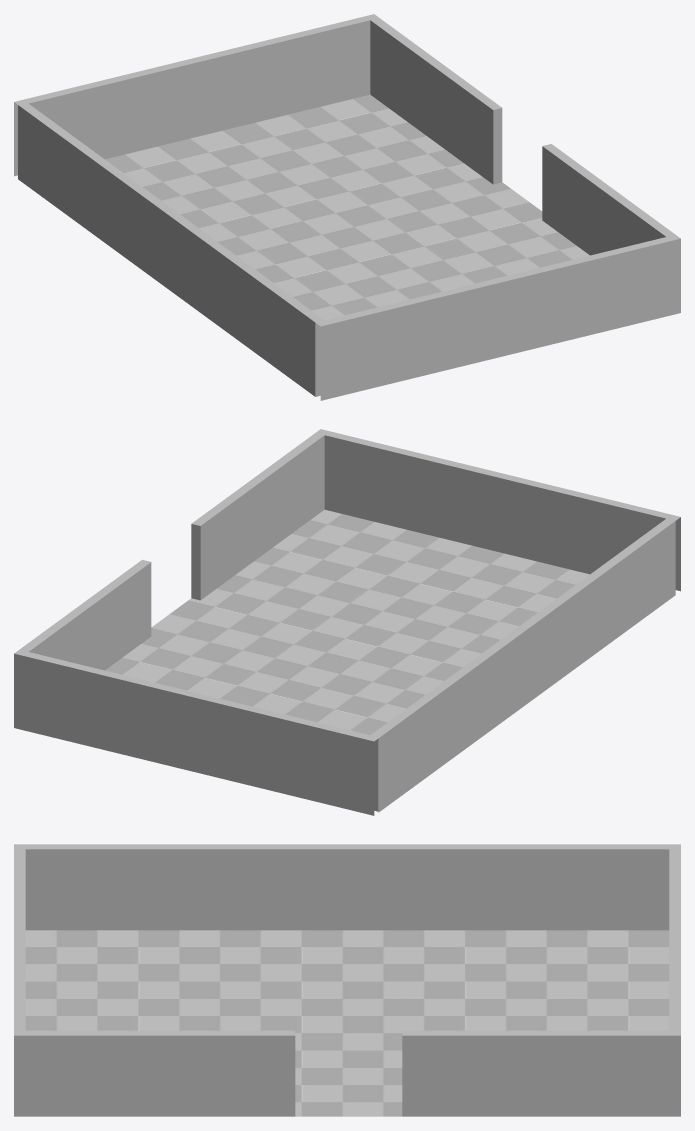
The model's file is Recapation Area.fbx.
The picture shows the model from 3 angles, top to bottom: view 1: azimuth 30°, elevation 25°; view 2: azimuth 150°, elevation 25°; view 3: azimuth 270°, elevation 25°; orthographic projection. The views are drawn at different scales.
Visible parts, largest first — view 1: Plane.005, M1_Wall_05_1.016, M1_Wall_05_1.013, M1_Wall_05_1.012, M1_Wall_05_1.014, M1_Wall_05_1.002, M1_Wall_05_1.015, M1_Wall_05_1.001; view 2: Plane.005, M1_Wall_05_1.016, M1_Wall_05_1.015, M1_Wall_05_1.014, M1_Wall_05_1.012, M1_Wall_05_1.001, M1_Wall_05_1.013, M1_Wall_05_1.002; view 3: Plane.005, M1_Wall_05_1.016, M1_Wall_05_1.001, M1_Wall_05_1.002, M1_Wall_05_1.013, M1_Wall_05_1.015, M1_Wall_05_1.012, M1_Wall_05_1.014.
Part boxes in pixels (x1,y1,x2,y2): Plane.005: (105,94,589,320); M1_Wall_05_1.016: (18,103,323,396); M1_Wall_05_1.013: (315,279,498,400); M1_Wall_05_1.012: (493,237,671,357); M1_Wall_05_1.014: (192,16,370,136); M1_Wall_05_1.002: (365,14,502,184); M1_Wall_05_1.015: (14,58,196,176); M1_Wall_05_1.001: (542,144,680,314); Plane.005: (105,509,589,735); M1_Wall_05_1.016: (371,518,675,812); M1_Wall_05_1.015: (196,694,379,815); M1_Wall_05_1.014: (23,652,201,772); M1_Wall_05_1.012: (324,431,502,551); M1_Wall_05_1.001: (191,429,329,600); M1_Wall_05_1.013: (498,473,680,591); M1_Wall_05_1.002: (14,559,151,729); Plane.005: (25,930,669,1116); M1_Wall_05_1.016: (25,844,669,930); M1_Wall_05_1.001: (14,1030,295,1116); M1_Wall_05_1.002: (402,1030,680,1116); M1_Wall_05_1.013: (14,844,25,938); M1_Wall_05_1.015: (669,844,680,938); M1_Wall_05_1.012: (14,938,25,1030); M1_Wall_05_1.014: (669,938,680,1030).
Size of the model in its own units: 15.19 by 3 by 22.41.
